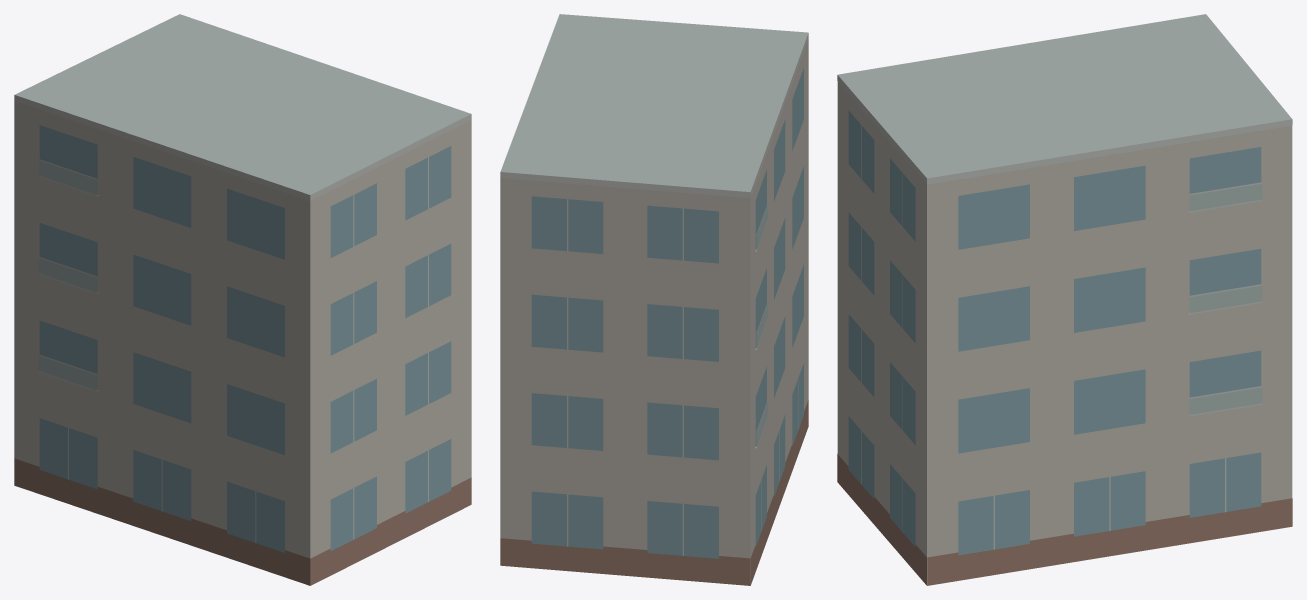
Rendered from survey-upis-32858243.glb.
The picture shows the model from 3 angles, left to right: view 1: azimuth 30°, elevation 25°; view 2: azimuth 150°, elevation 25°; view 3: azimuth 270°, elevation 25°; orthographic projection. The views are drawn at different scales.
Parts seen in each view (by area): view 1: survey-upis-32858243.tmp; view 2: survey-upis-32858243.tmp; view 3: survey-upis-32858243.tmp.
Boxes of the visible parts, x1,y1,x2,y2 form: survey-upis-32858243.tmp: [14, 14, 471, 585]; survey-upis-32858243.tmp: [500, 14, 808, 585]; survey-upis-32858243.tmp: [837, 14, 1292, 585].
Size of the model in its own units: 13.78 by 15.9 by 16.1.
